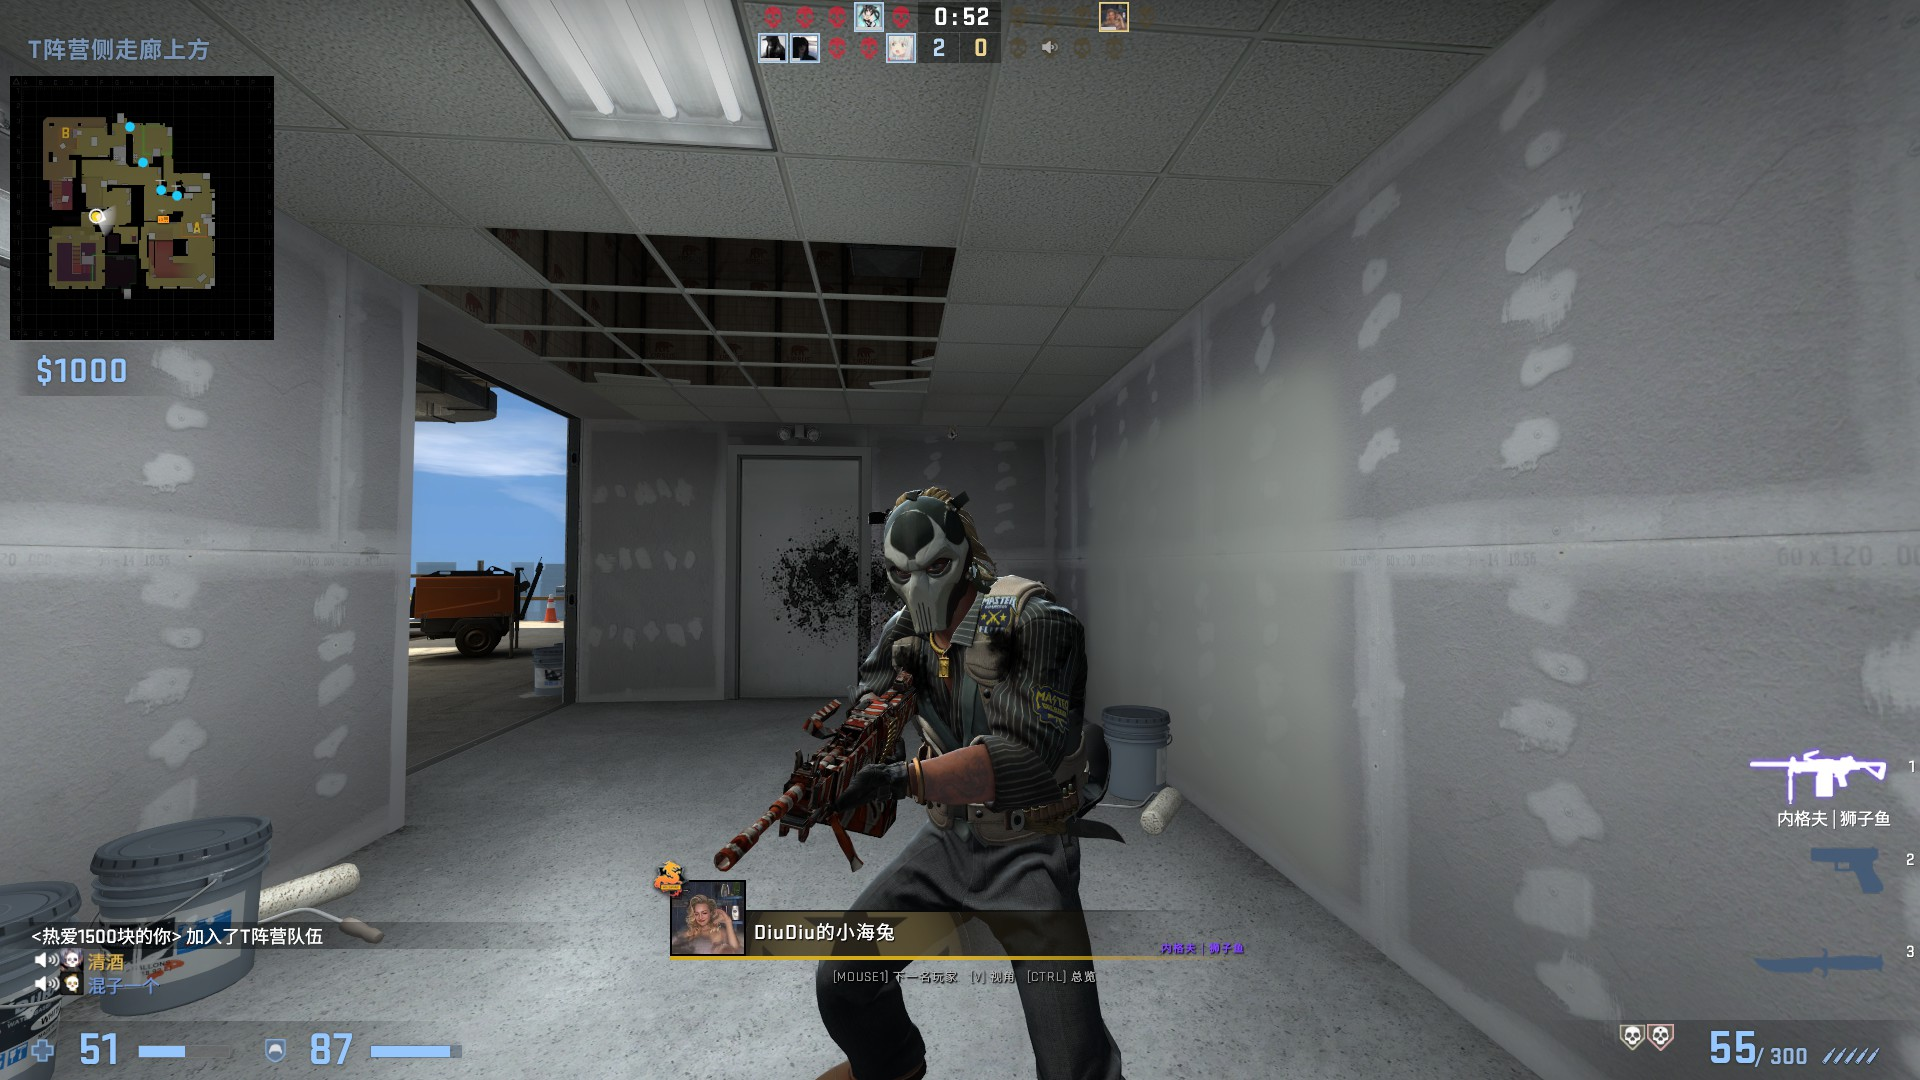head: (869, 486, 987, 630)
